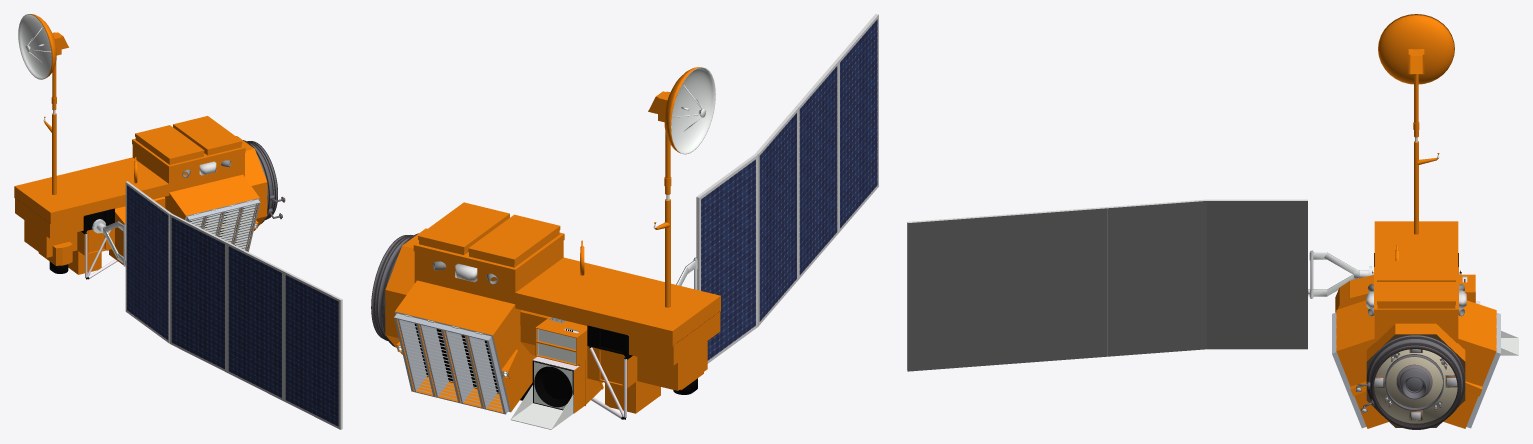
File: landsat-4-5-ligero.glb
3 renders of one model, left to right at view 1: azimuth 30°, elevation 25°; view 2: azimuth 150°, elevation 25°; view 3: azimuth 270°, elevation 25°, orthographic. The views are drawn at different scales.
Visible parts, largest first — view 1: Cube.017, Cube.013, Cube.015, TM_Panels_1.004, Cube.004, TM_Body.002, Cylinder.007; view 2: Cube.013, Cube.017, Cube.015, TM_Panels_1.004, Cube.004, TM_Body.002, Cylinder.007; view 3: Cube.015, Cube.013, TM_Panels_1.004, Cube.004.
Part boxes in pixels (box(x1,y1,x2,y2)): Cube.017: box(127, 185, 338, 426); Cube.013: box(14, 14, 267, 274); Cube.015: box(18, 14, 342, 429); TM_Panels_1.004: box(186, 199, 260, 251); Cube.004: box(18, 160, 244, 279); TM_Body.002: box(190, 204, 257, 249); Cylinder.007: box(85, 230, 117, 278); Cube.013: box(385, 67, 720, 429); Cube.017: box(701, 19, 877, 360); Cube.015: box(371, 14, 878, 412); TM_Panels_1.004: box(394, 313, 508, 414); Cube.004: box(414, 257, 719, 419); TM_Body.002: box(398, 320, 573, 429); Cylinder.007: box(533, 347, 626, 418); Cube.015: box(907, 137, 1496, 429); Cube.013: box(1335, 14, 1496, 428); TM_Panels_1.004: box(1332, 312, 1500, 428); Cube.004: box(1308, 250, 1465, 316).
Size of the model in its own units: 1.59 by 1.79 by 3.17.
Materials: 8 (6 with a texture image).
